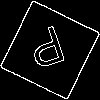P: (25, 25, 72, 79)
